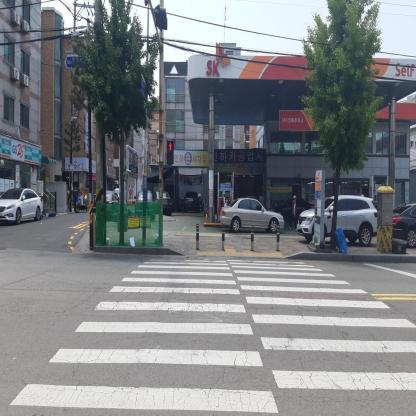Red: (167, 140, 174, 165)
